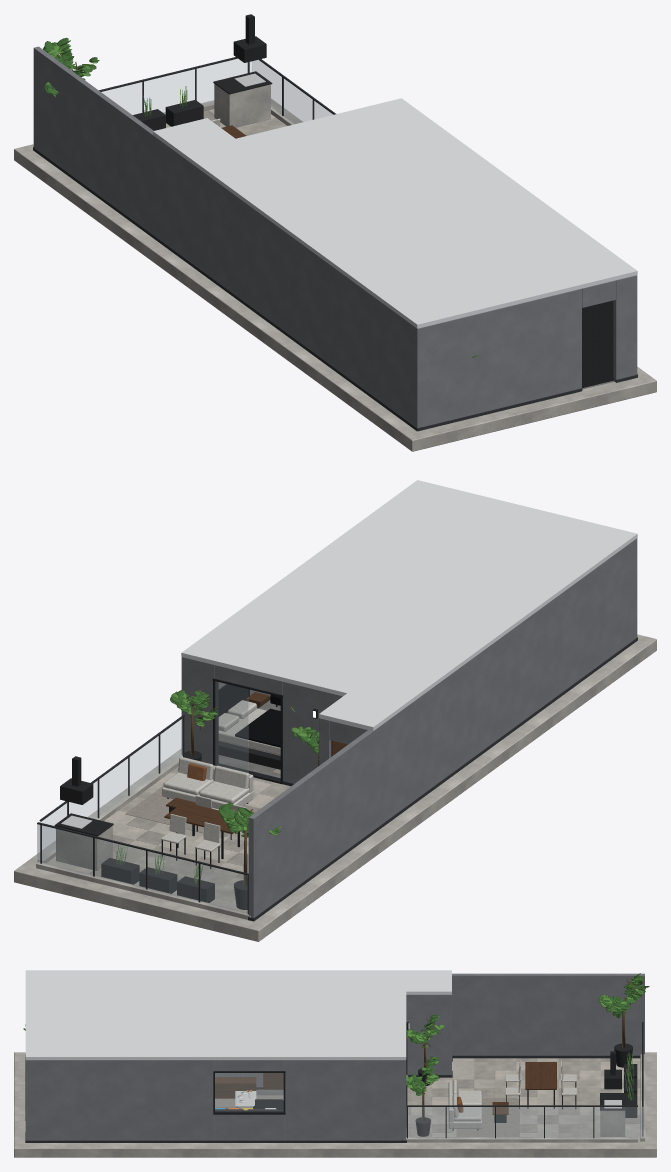
File: apartment-loft.glb
3 views of the same model, one above another, from view 1: azimuth 30°, elevation 25°; view 2: azimuth 150°, elevation 25°; view 3: azimuth 270°, elevation 25° (orthographic). The views are drawn at different scales.
Parts seen in each view (by area): view 1: Ceiling, Wall_E_02, Wall_S_16, Slab, Glass_N_00, Door_entry, Wall_S_15, BBQ, Glass_W_01, Ceiling_laundry, Skirting_E_02, Planter_0 (+4 smaller); view 2: Ceiling, Wall_E_02, Slab, Glass_N_00, Floor_terrace_a, Glass_W_01, Wall_N_04, SlideLeaf, Wall_N_03, Ceiling_laundry, BBQ, Curb_N (+14 smaller); view 3: Ceiling, Wall_W_11, Wall_E_02, Slab, Wall_W_10, Floor_terrace_a, Glass_W_01, Wall_W_09, Glass_W_14, Wall_W_12, Floor_terrace_b, Curb_W (+22 smaller).
Part boxes in pixels (x1,y1,x2,y2): Ceiling: (181, 98, 637, 328); Wall_E_02: (33, 46, 417, 427); Wall_S_16: (417, 288, 581, 427); Slab: (14, 98, 656, 451); Glass_N_00: (101, 59, 252, 114); Door_entry: (582, 300, 613, 388); Wall_S_15: (613, 275, 637, 381); BBQ: (214, 84, 270, 127); Glass_W_01: (252, 60, 332, 123); Ceiling_laundry: (153, 118, 235, 155); Skirting_E_02: (33, 147, 422, 430); Planter_0: (165, 100, 203, 126); Ceiling: (181, 480, 637, 709); Wall_E_02: (248, 538, 637, 918); Slab: (14, 634, 656, 941); Glass_N_00: (37, 824, 247, 913); Floor_terrace_a: (46, 780, 264, 912); Glass_W_01: (37, 718, 182, 862); Wall_N_04: (282, 681, 342, 783); SlideLeaf: (215, 681, 248, 772); Wall_N_03: (181, 657, 214, 763); Ceiling_laundry: (319, 693, 401, 730); BBQ: (56, 826, 112, 870); Curb_N: (36, 861, 250, 919); Ceiling: (25, 970, 406, 1059); Wall_W_11: (26, 1060, 214, 1140); Wall_E_02: (452, 973, 644, 1055); Slab: (14, 1052, 656, 1157); Wall_W_10: (284, 1060, 406, 1140); Floor_terrace_a: (449, 1058, 642, 1141); Glass_W_01: (406, 1106, 642, 1138); Wall_W_09: (406, 994, 451, 1074); Glass_W_14: (215, 1073, 283, 1111); Wall_W_12: (214, 1114, 284, 1140); Floor_terrace_b: (407, 1077, 449, 1136); Curb_W: (404, 1137, 637, 1142).
Bounding box in the file's own units: 6.5 × 3.07 × 18.3.
47 materials, 16 textured.
